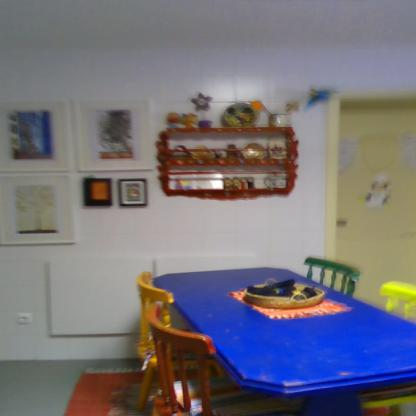door: (336, 105, 415, 312)
lever: (334, 220, 348, 225)
